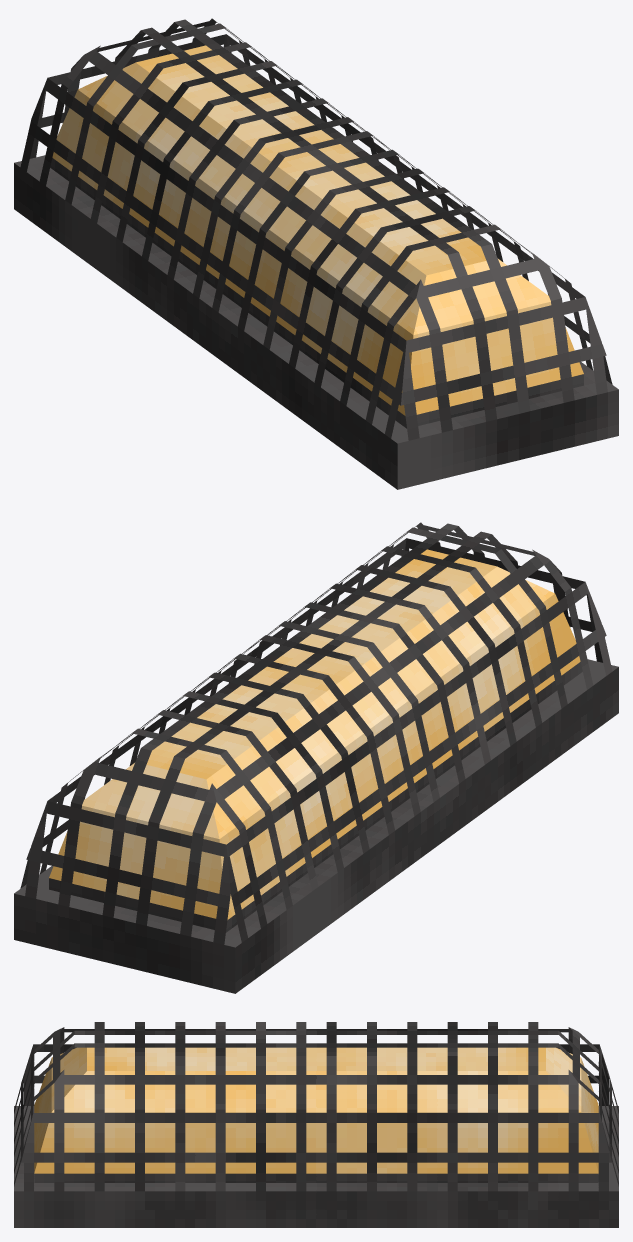
File: v2_industrial_light.gltf
3 renders of one model, top to bottom at view 1: azimuth 30°, elevation 25°; view 2: azimuth 150°, elevation 25°; view 3: azimuth 270°, elevation 25°, orthographic. The views are drawn at different scales.
Visible parts, largest first — view 1: Shell, Light; view 2: Shell, Light; view 3: Shell, Light.
Boxes of the visible parts, bbox=[...] form: Shell: bbox=[14, 18, 618, 489]; Light: bbox=[50, 45, 583, 428]; Shell: bbox=[14, 522, 618, 993]; Light: bbox=[49, 549, 582, 932]; Shell: bbox=[14, 1022, 618, 1227]; Light: bbox=[34, 1047, 598, 1182].
Size of the model in its own units: 0.625 by 0.5 by 1.88.
Materials: 1 (1 with a texture image).
